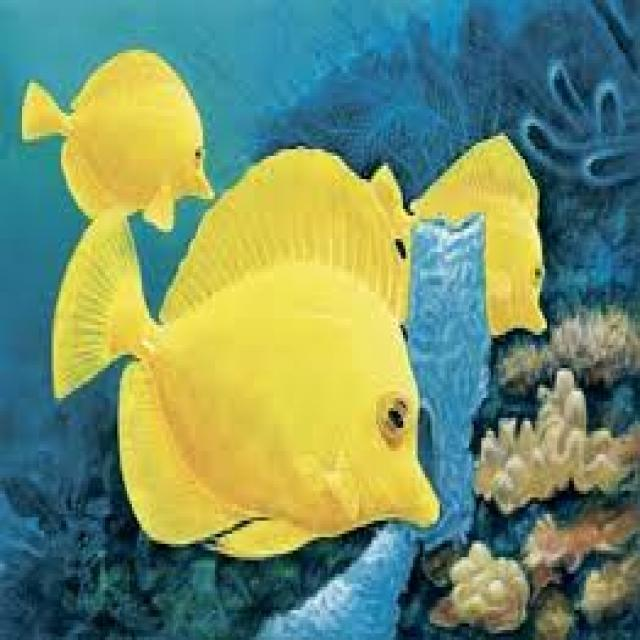TangFish: (49, 150, 441, 562), (370, 131, 552, 351), (13, 49, 214, 220)
